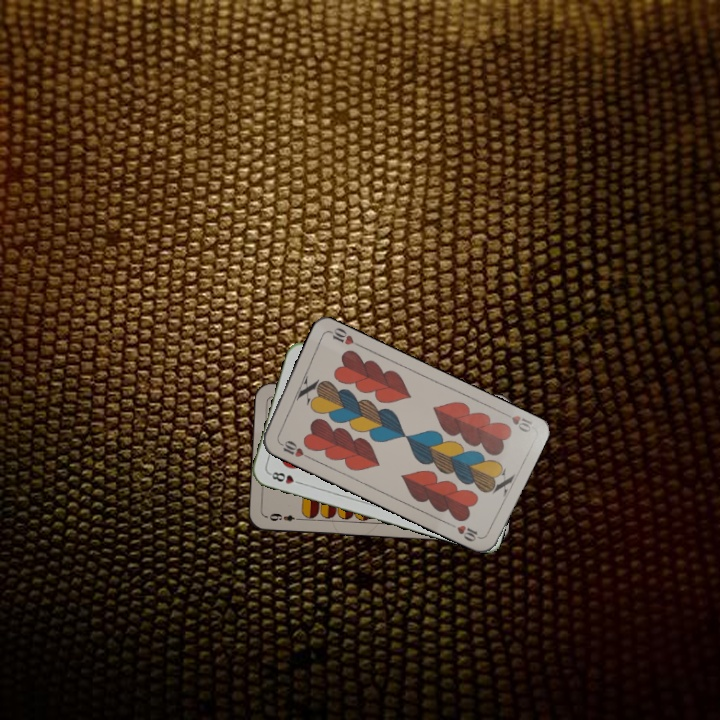E9: (266, 509, 304, 524)
H10: (497, 407, 536, 435), (274, 436, 312, 461)
H8: (265, 468, 305, 487)
